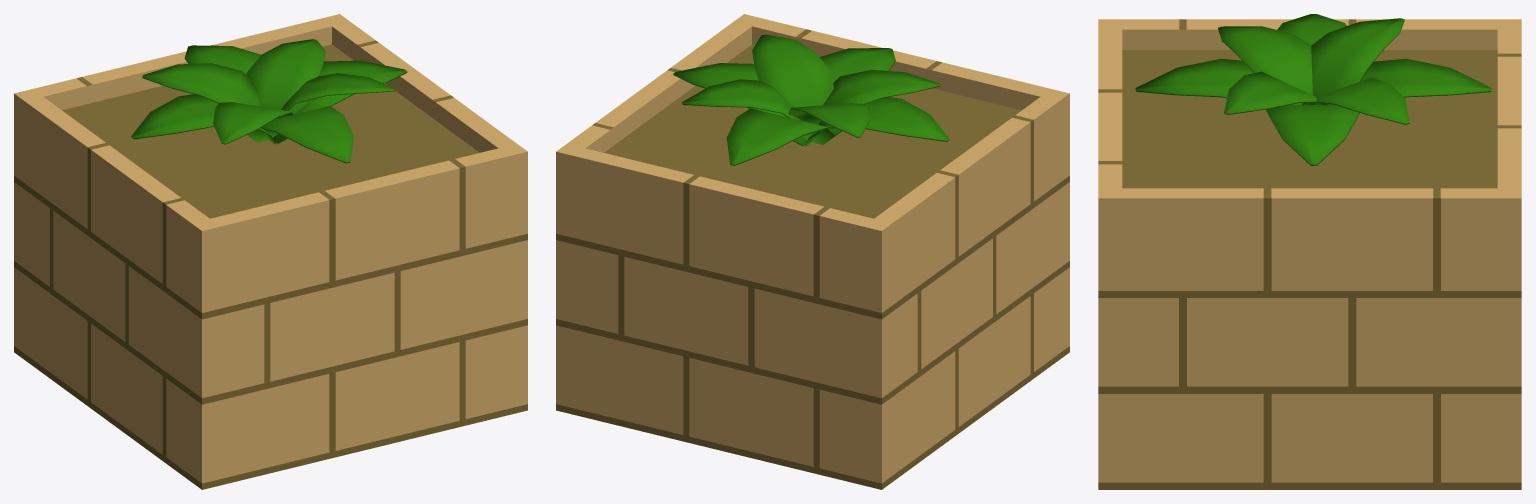
File: planter.glb
3 renders of one model, left to right at view 1: azimuth 30°, elevation 25°; view 2: azimuth 150°, elevation 25°; view 3: azimuth 270°, elevation 25°, orthographic. The views are drawn at different scales.
Parts seen in each view (by area): view 1: Cube.002; view 2: Cube.002; view 3: Cube.002.
Boxes of the visible parts, <box> form: Cube.002: <box>14,14,527,489</box>; Cube.002: <box>556,14,1069,489</box>; Cube.002: <box>1098,14,1521,489</box>.
Bounding box in the file's own units: 1 × 0.8869 × 1.
1 material, 1 textured.
